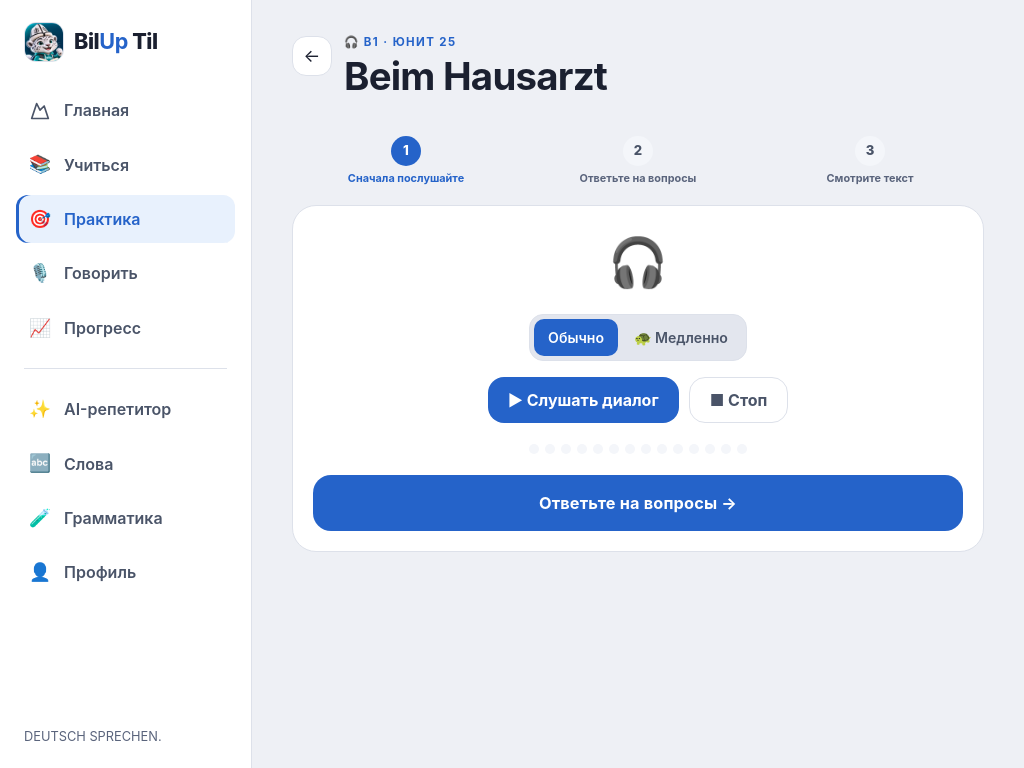
Scenario: reading and listening flows › ru: the listening shows the transcript only through the existing flow and offers the questions
Step 1. Click the button "Ответьте на вопросы →" → (638,503), box [313,475,963,531]
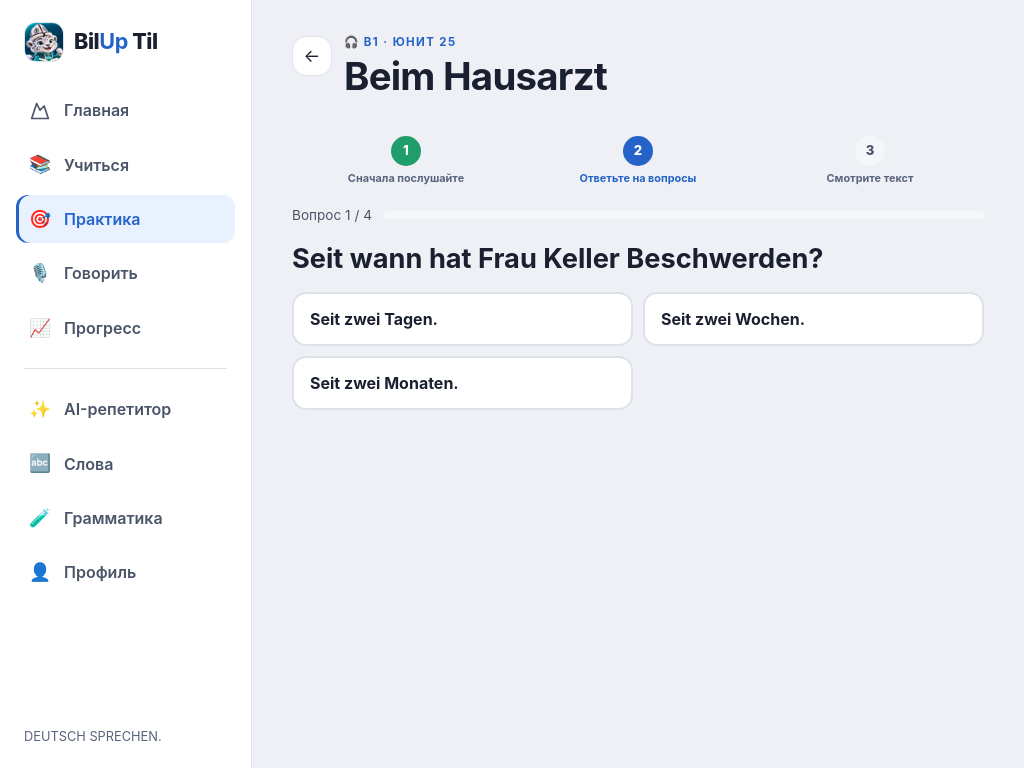
Expected: the text "Seit wann hat Frau Keller Beschwerden?" is shown, [292,241,824,278]
